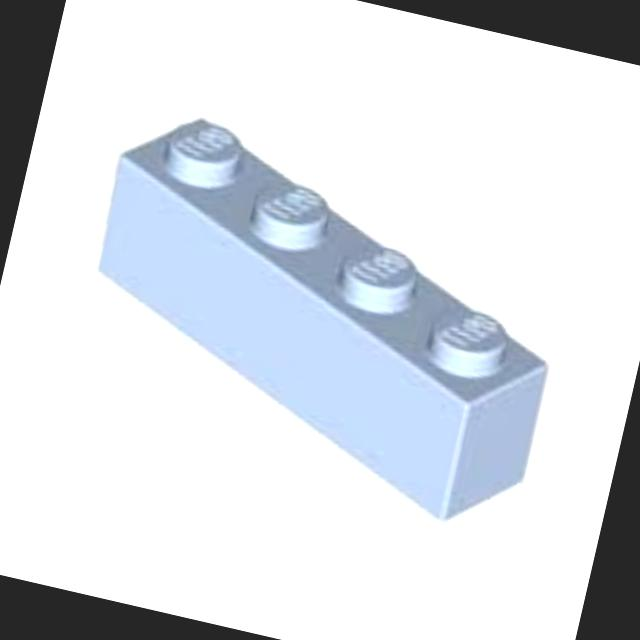1x4: (97, 117, 549, 519)
